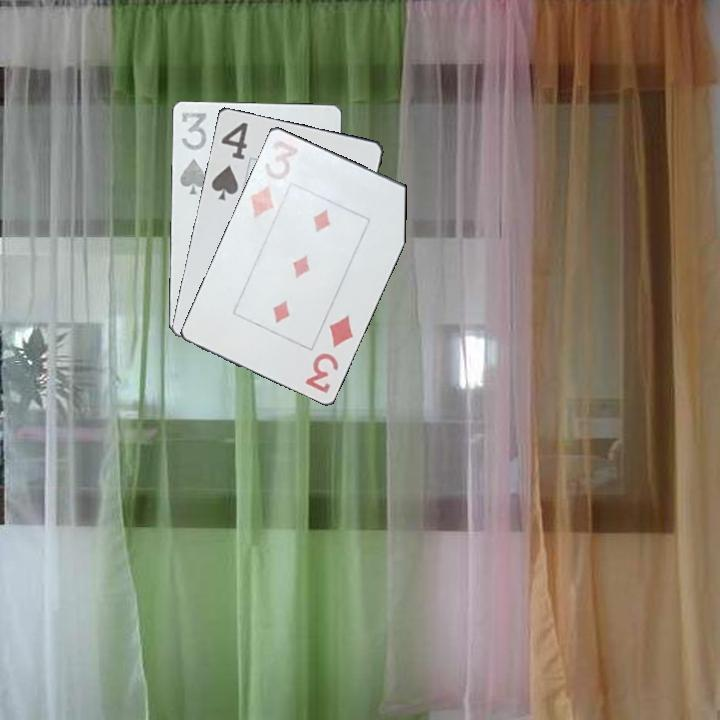3d: (246, 136, 305, 221), (301, 311, 358, 396)
3s: (176, 106, 210, 197)
4s: (207, 118, 251, 203)
